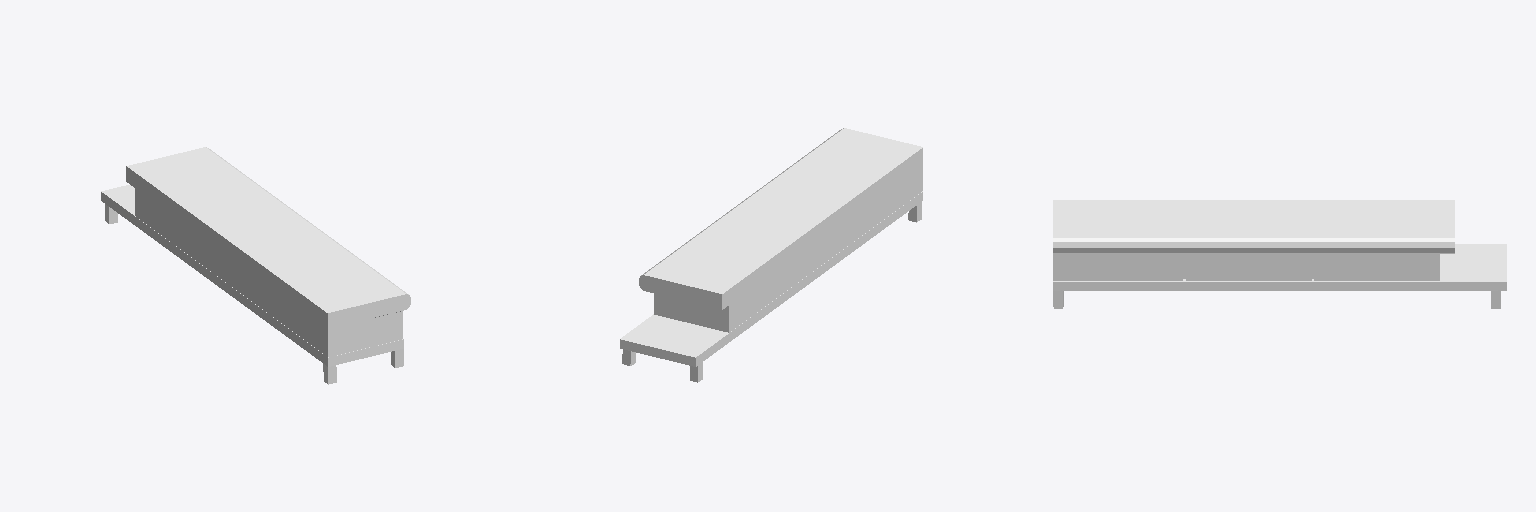
3 views of the same model, side by side, from view 1: azimuth 30°, elevation 25°; view 2: azimuth 150°, elevation 25°; view 3: azimuth 270°, elevation 25° (orthographic).
Visible parts, largest first — view 1: aws_TVCabinet_01_visualMesh; view 2: aws_TVCabinet_01_visualMesh; view 3: aws_TVCabinet_01_visualMesh.
Part boxes in pixels (x1,y1,x2,y2): aws_TVCabinet_01_visualMesh: (101, 147, 410, 384); aws_TVCabinet_01_visualMesh: (620, 128, 922, 382); aws_TVCabinet_01_visualMesh: (1053, 200, 1506, 308).
Size of the model in its own units: 0.5961 by 0.4884 by 2.79.